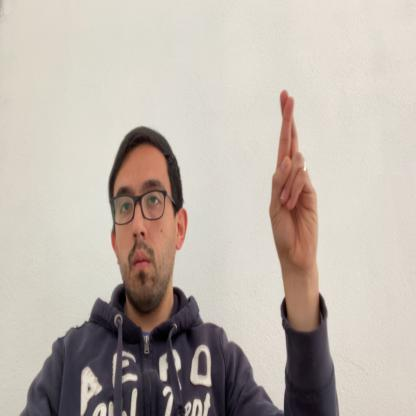R: (269, 89, 318, 255)
